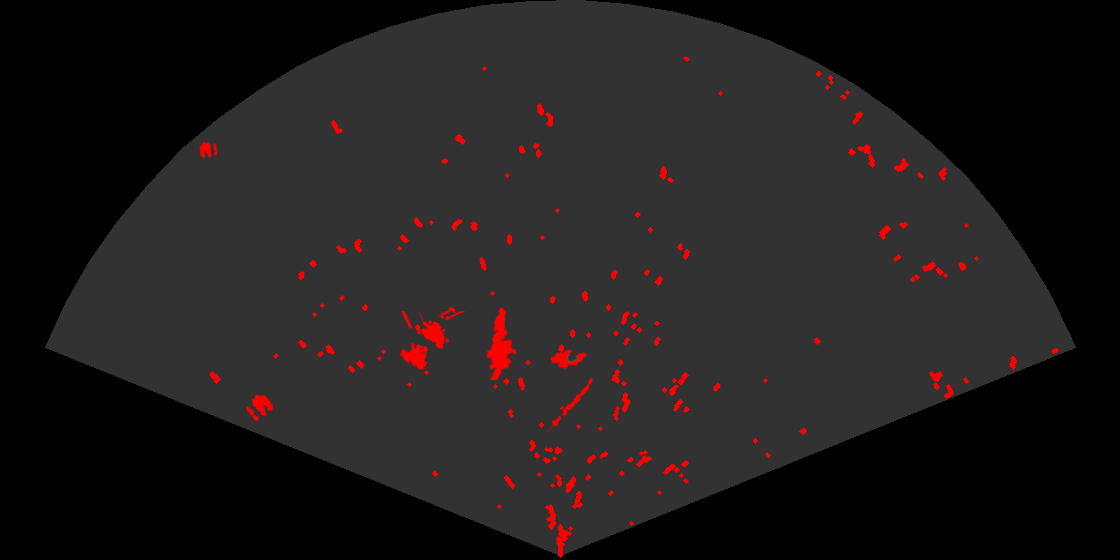AUV: (548, 348, 589, 371)
ball: (244, 393, 275, 423), (198, 140, 219, 160)
cage: (398, 311, 466, 372)
chain: (547, 376, 595, 435)
frogman: (485, 306, 518, 380)
